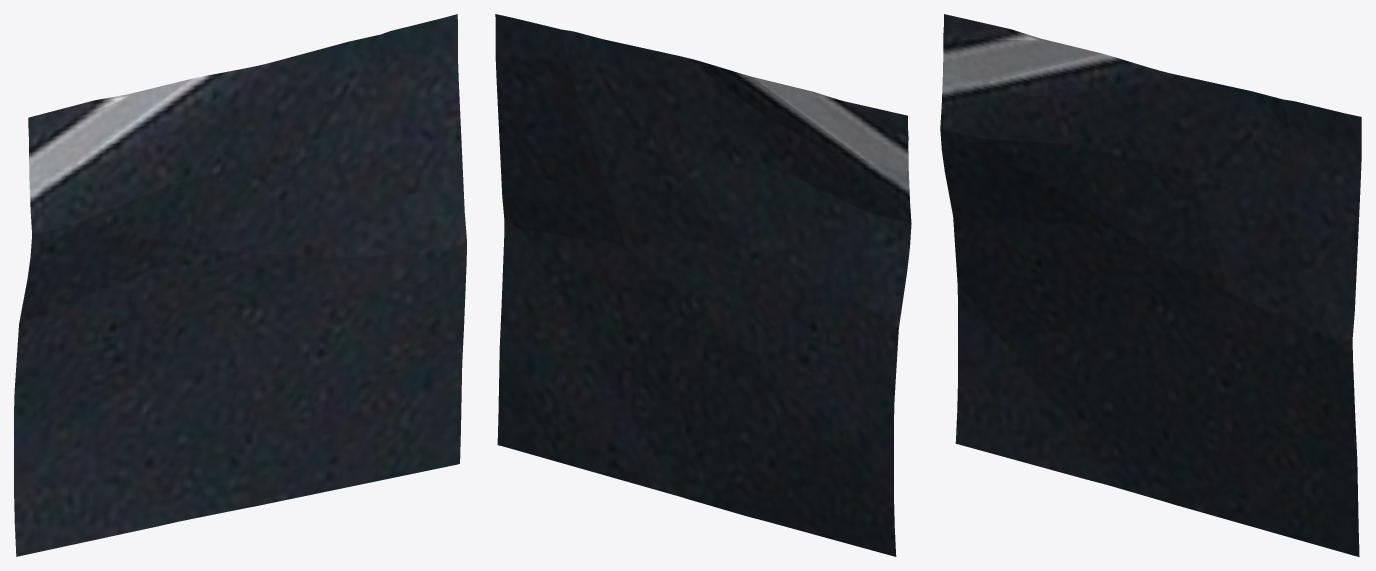
The model's file is Tile_+002_+006_L23_003022.obj.
3 renders of one model, left to right at view 1: azimuth 30°, elevation 25°; view 2: azimuth 150°, elevation 25°; view 3: azimuth 330°, elevation 25°, orthographic. The views are drawn at different scales.
Size of the model in its own units: 1.91 by 1.91 by 0.1942.
1 material, 1 textured.
